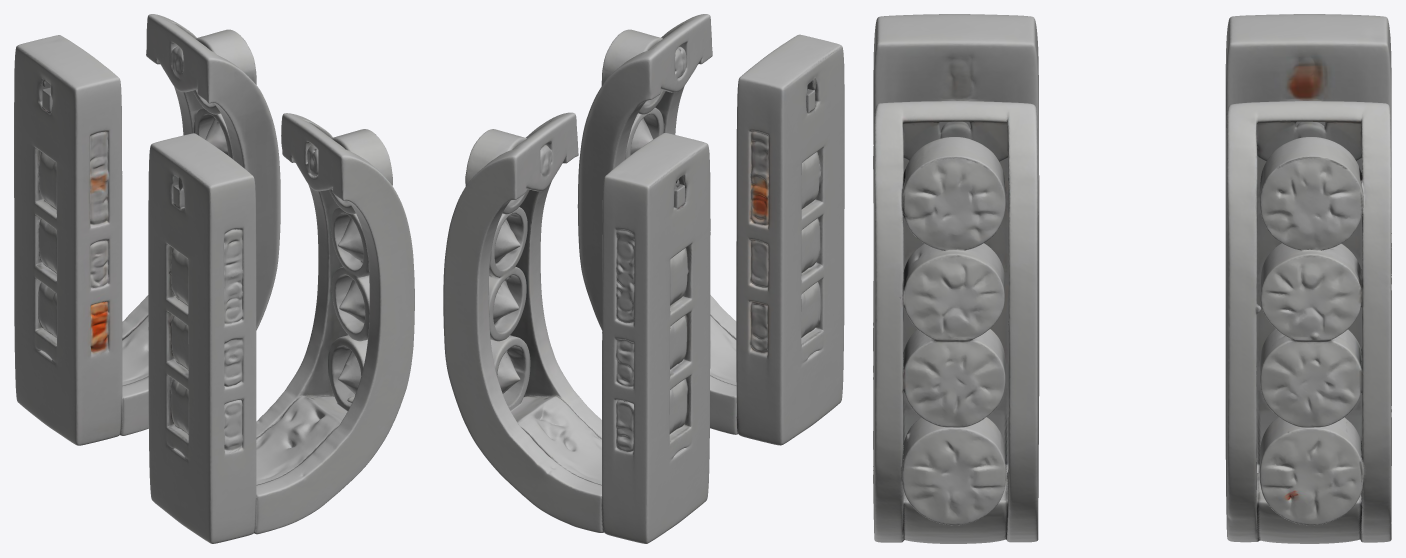
The picture shows the model from 3 angles, left to right: view 1: azimuth 30°, elevation 25°; view 2: azimuth 150°, elevation 25°; view 3: azimuth 270°, elevation 25°; orthographic projection. The views are drawn at different scales.
Visible parts, largest first — view 1: tripo_node_2b30a819-f19c-49d4-92a0-7837e9ad8fa1; view 2: tripo_node_2b30a819-f19c-49d4-92a0-7837e9ad8fa1; view 3: tripo_node_2b30a819-f19c-49d4-92a0-7837e9ad8fa1.
Part boxes in pixels (left/top/right/bottom): tripo_node_2b30a819-f19c-49d4-92a0-7837e9ad8fa1: left=14, top=14, right=414, bottom=543; tripo_node_2b30a819-f19c-49d4-92a0-7837e9ad8fa1: left=443, top=14, right=844, bottom=543; tripo_node_2b30a819-f19c-49d4-92a0-7837e9ad8fa1: left=873, top=14, right=1391, bottom=543.
Bounding box in the file's own units: 0.6039 × 1 × 0.9846.
Materials: 1 (1 with a texture image).
